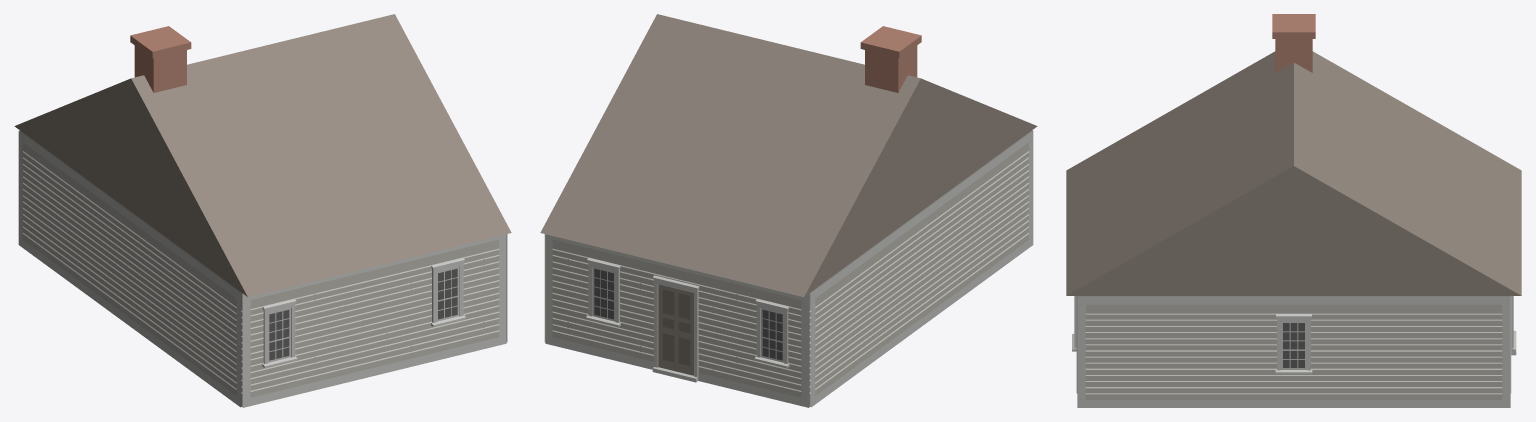
The model's file is recon_1835_blk_school_section_tier_82_d5_02__inferred_1835.glb.
The picture shows the model from 3 angles, left to right: view 1: azimuth 30°, elevation 25°; view 2: azimuth 150°, elevation 25°; view 3: azimuth 270°, elevation 25°; orthographic projection. The views are drawn at different scales.
Visible parts, largest first — view 1: recon_1835_blk_school_section_tier_82_d5_02__inferred_1835; view 2: recon_1835_blk_school_section_tier_82_d5_02__inferred_1835; view 3: recon_1835_blk_school_section_tier_82_d5_02__inferred_1835.
Boxes of the visible parts, left/top/right/bottom form: recon_1835_blk_school_section_tier_82_d5_02__inferred_1835: left=14, top=14, right=511, bottom=407; recon_1835_blk_school_section_tier_82_d5_02__inferred_1835: left=540, top=14, right=1037, bottom=407; recon_1835_blk_school_section_tier_82_d5_02__inferred_1835: left=1066, top=14, right=1521, bottom=407.
Bounding box in the file's own units: 6.83 × 6.77 × 10.25.
